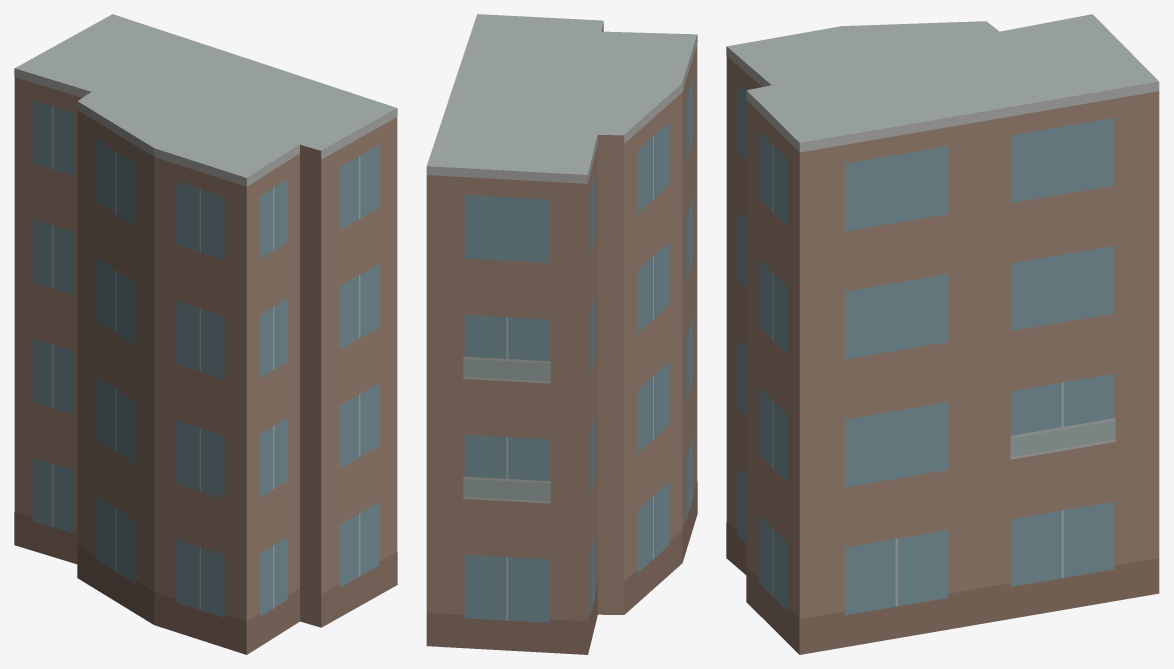
File: survey-upis-32474065.glb
3 renders of one model, left to right at view 1: azimuth 30°, elevation 25°; view 2: azimuth 150°, elevation 25°; view 3: azimuth 270°, elevation 25°, orthographic. The views are drawn at different scales.
Parts seen in each view (by area): view 1: survey-upis-32474065.tmp; view 2: survey-upis-32474065.tmp; view 3: survey-upis-32474065.tmp.
Boxes of the visible parts, left/top/right/bottom form: survey-upis-32474065.tmp: left=14, top=14, right=397, bottom=654; survey-upis-32474065.tmp: left=426, top=14, right=697, bottom=654; survey-upis-32474065.tmp: left=726, top=14, right=1159, bottom=654.
Bounding box in the file's own units: 7.18 × 13.25 × 10.16.
